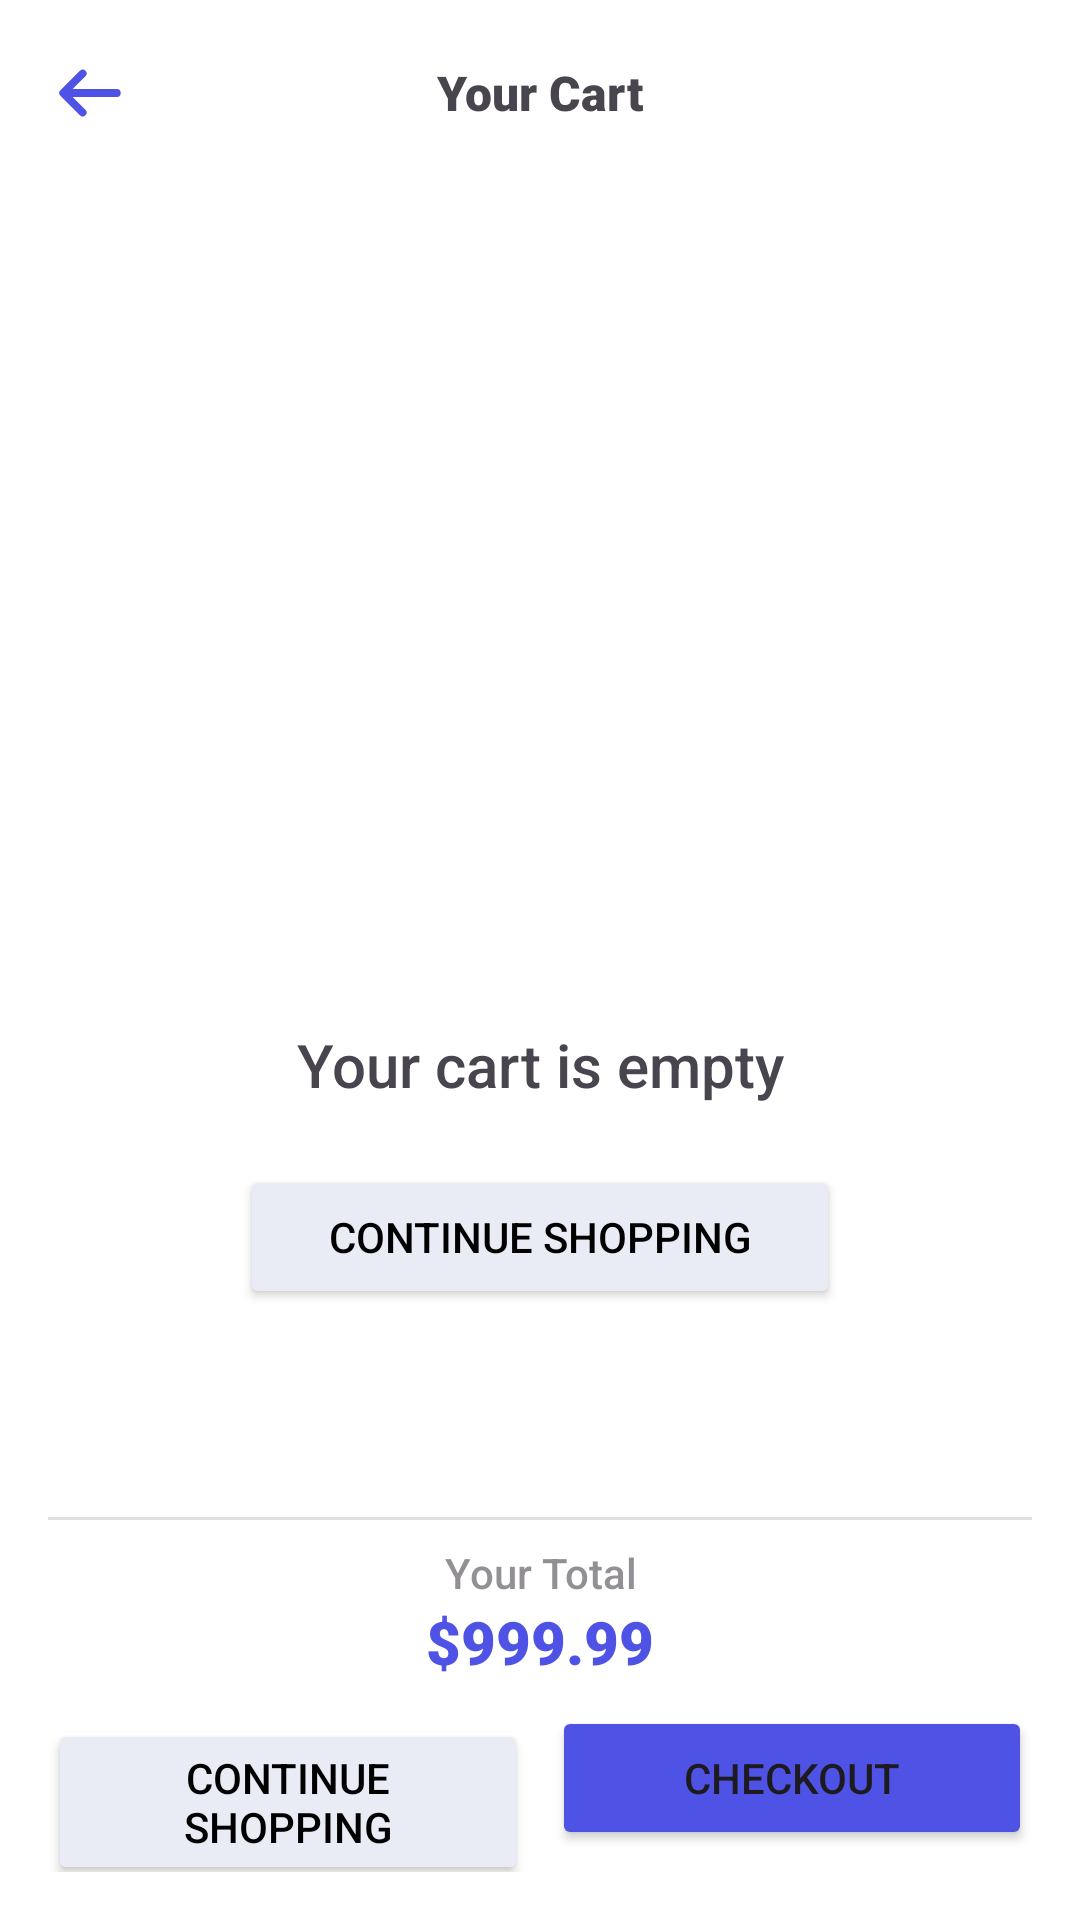

Icon click points for this 1080 × 1920 phone screenshot, format (x,y):
back: (90,93)
